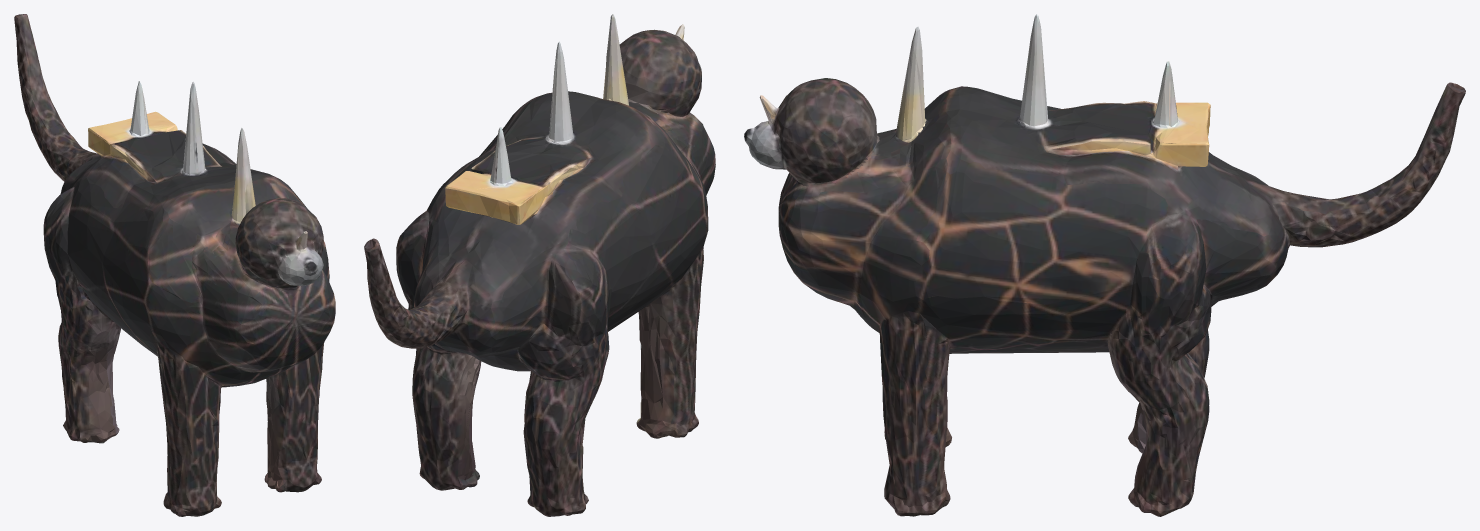
File: creature-051.lod.glb
3 views of the same model, side by side, from view 1: azimuth 30°, elevation 25°; view 2: azimuth 150°, elevation 25°; view 3: azimuth 270°, elevation 25° (orthographic). The views are drawn at different scales.
Visible parts, largest first — view 1: tmpxu6xf7i7.ply; view 2: tmpxu6xf7i7.ply; view 3: tmpxu6xf7i7.ply.
Part boxes in pixels (x1,y1,x2,y2): tmpxu6xf7i7.ply: (14, 14, 335, 516); tmpxu6xf7i7.ply: (364, 14, 715, 516); tmpxu6xf7i7.ply: (744, 14, 1465, 516).
Size of the model in its own units: 0.7172 by 1.41 by 1.99.
Materials: 1 (1 with a texture image).
